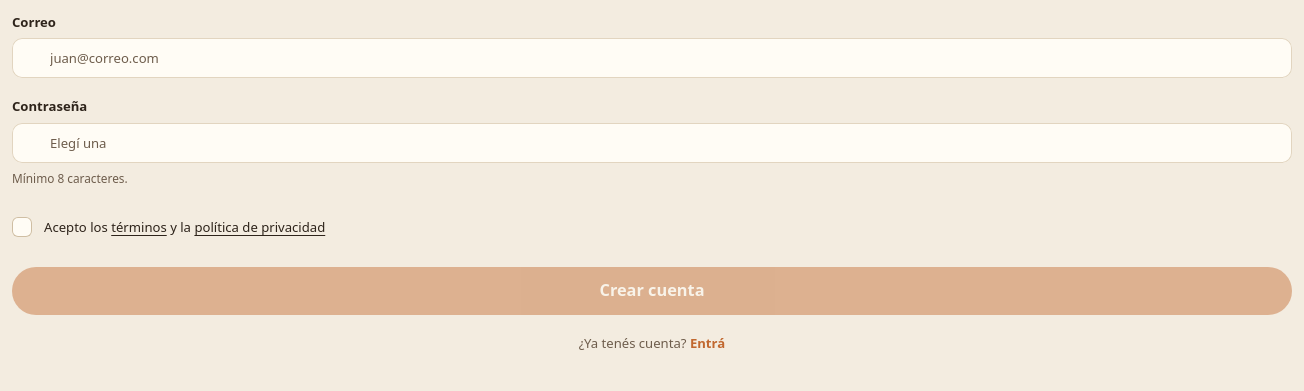
it: SignupForm › renders the invalid-email error exactly
This screenshot has width=1304, height=391.
Type "juan@correo" into the field labelled "Correo" at (664, 58), box [50,48,1278,68]
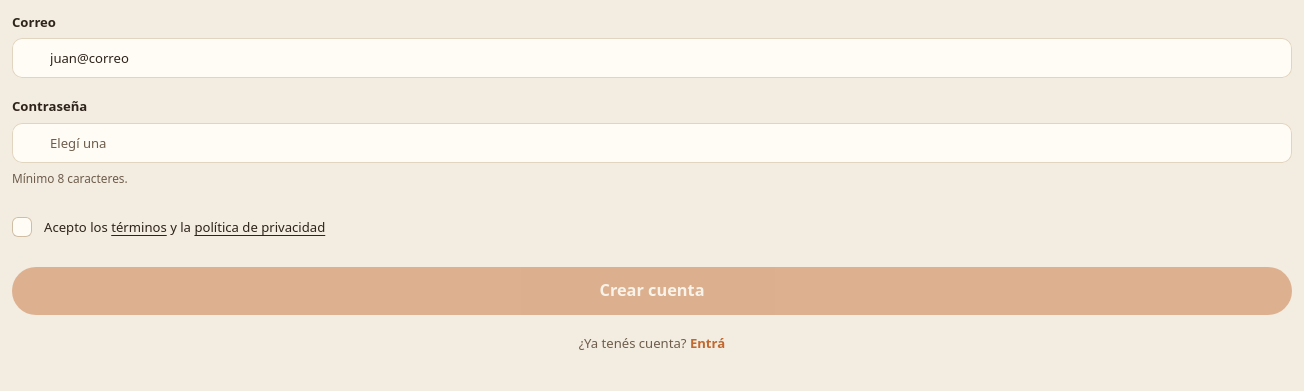
Type "a-real-password" into the password field labelled "Contraseña" at (664, 143), box [50,132,1278,153]
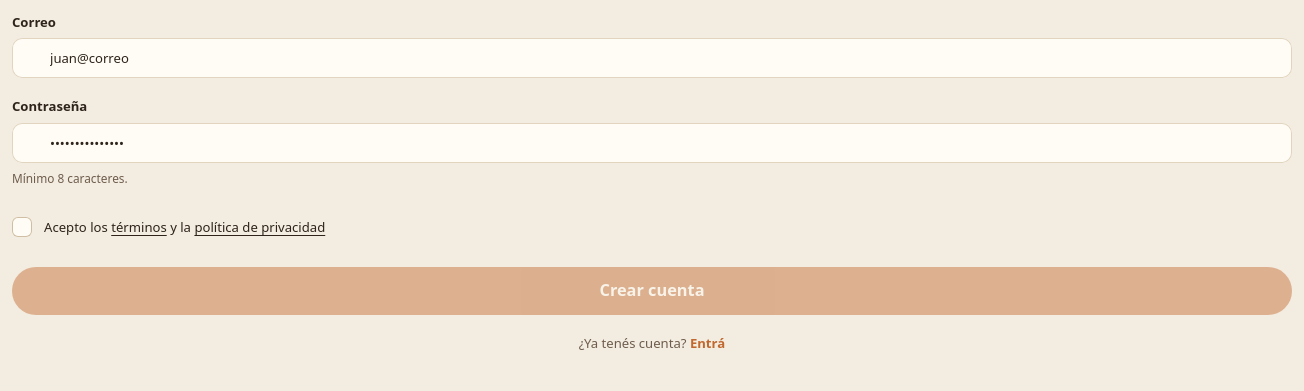
Click the checkbox at (169, 227), box [12,217,325,237]
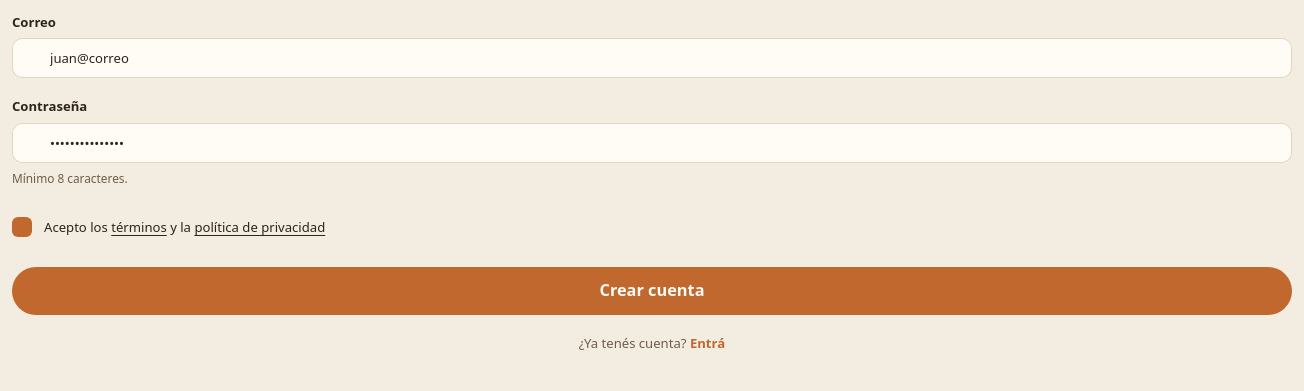
Click the button "Crear cuenta" at (652, 291), box [12,267,1292,315]
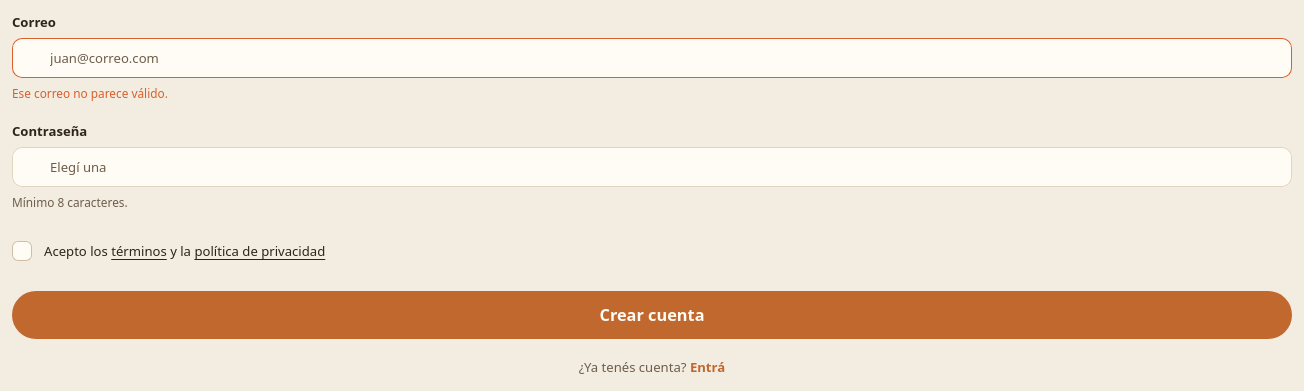
Now the text "Ese correo no parece válido." is shown, box [12,85,168,101]
